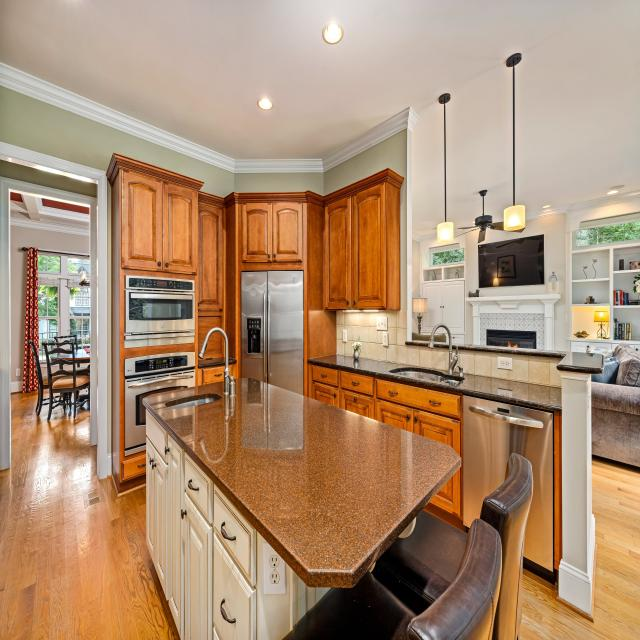Appliance_Dishwasher: (463, 396, 553, 572)
Appliance_Fridge: (240, 270, 305, 395)
Appliance_Oven: (125, 352, 195, 457), (124, 275, 195, 348)
Appliance_Sink: (389, 324, 463, 383), (199, 327, 236, 411), (165, 394, 221, 407)
Cabinet_Flat: (311, 366, 460, 418), (121, 457, 145, 482), (196, 366, 224, 386)
Cabinet_Raised_Panel: (144, 410, 256, 640), (242, 175, 387, 312), (121, 175, 226, 361), (312, 382, 460, 454), (429, 469, 462, 518)
Countertop_Granite: (143, 379, 462, 589), (309, 355, 563, 409), (405, 341, 606, 374), (196, 357, 240, 367)
